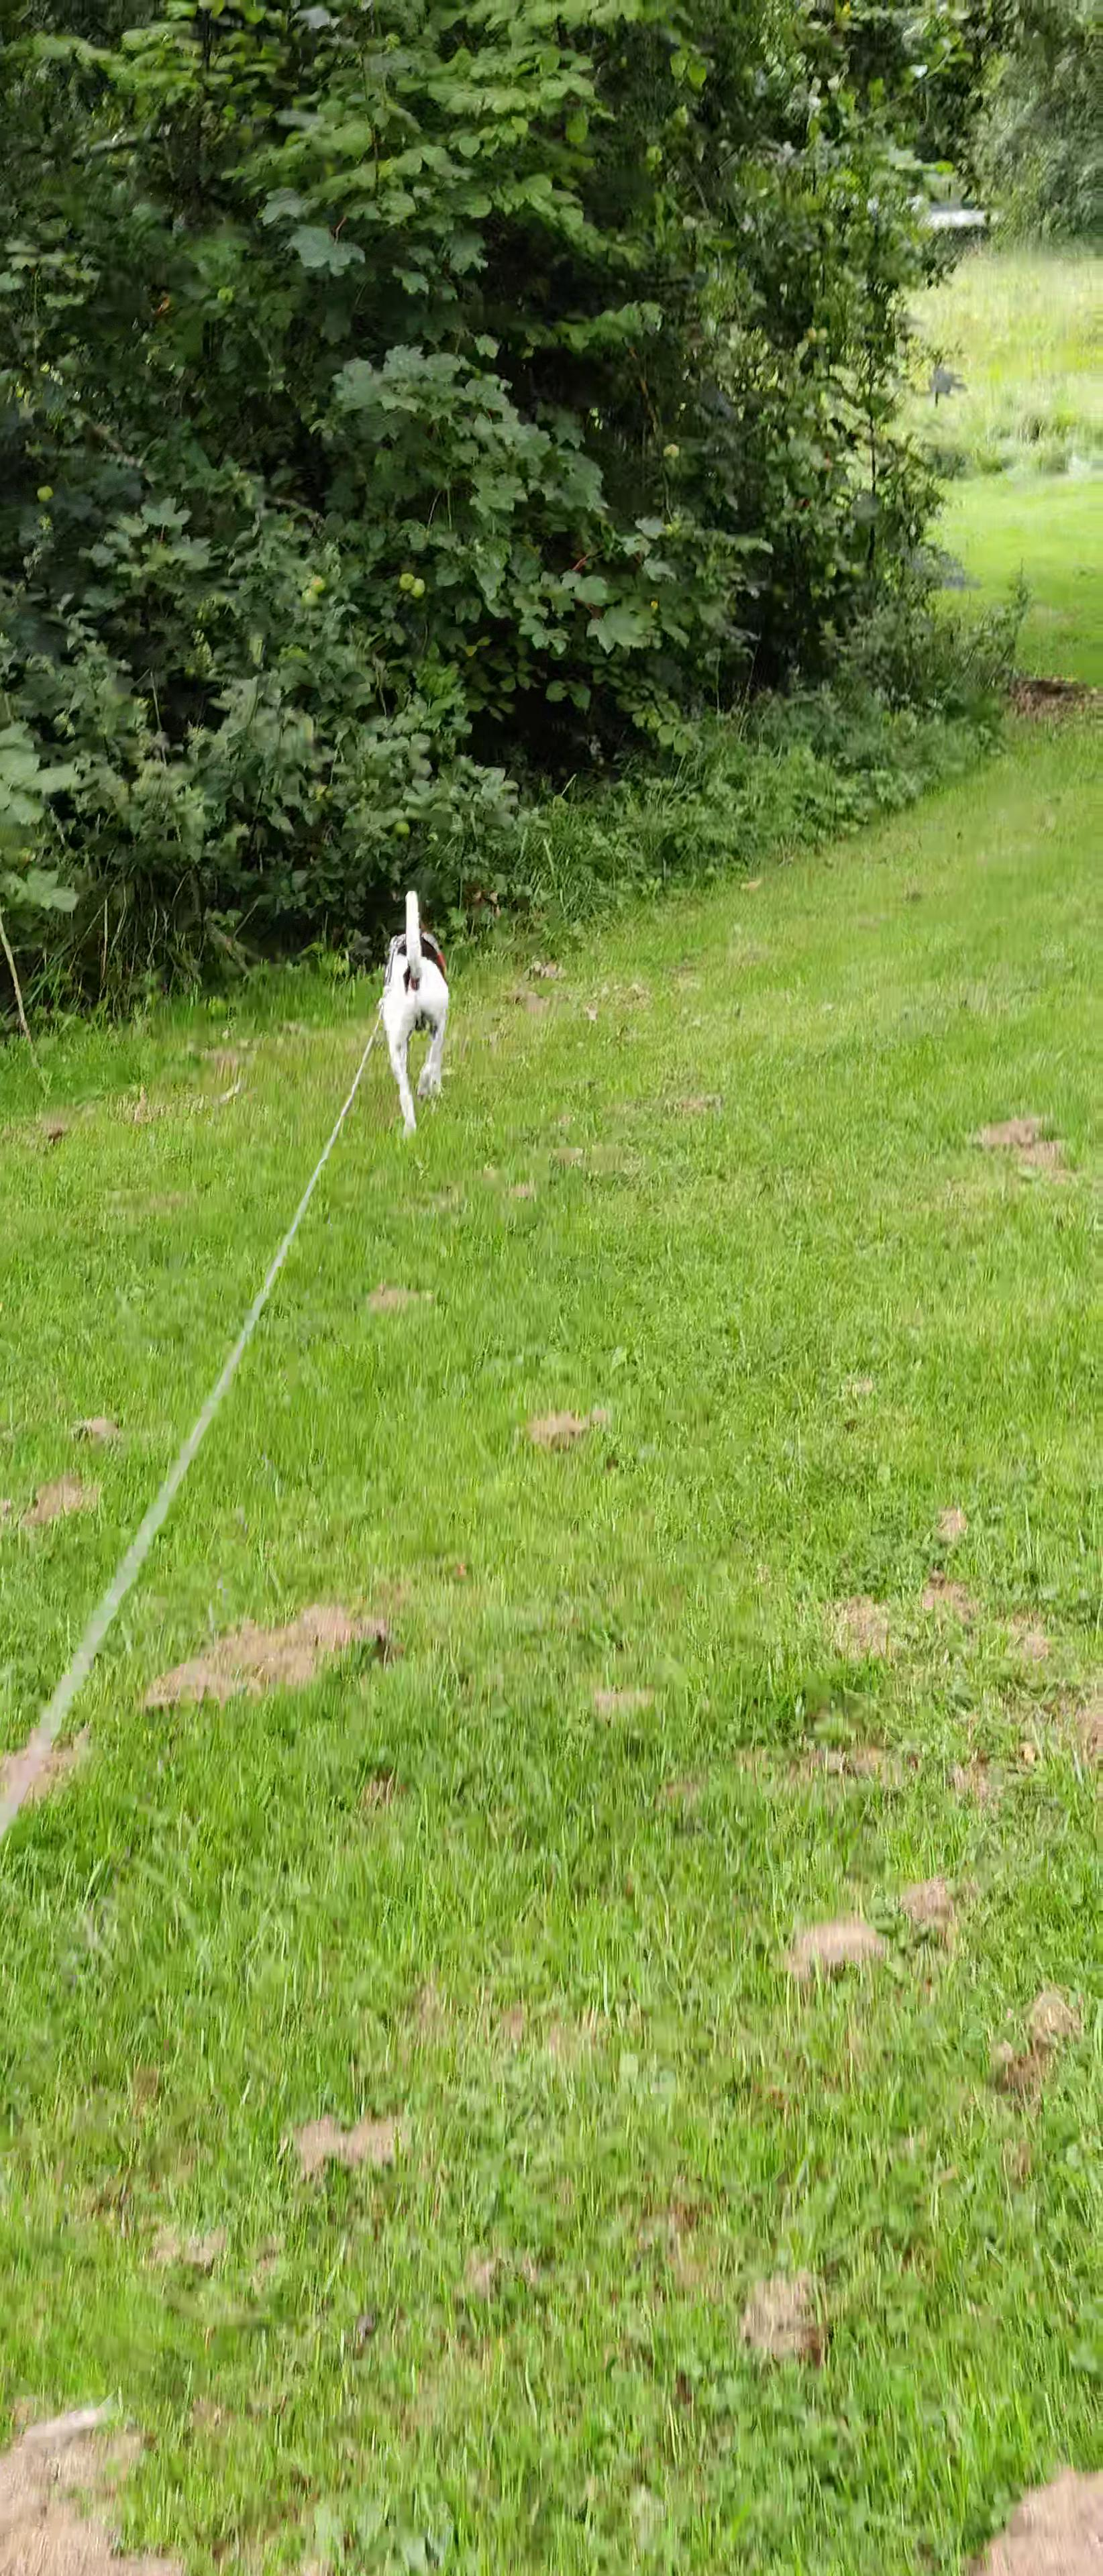Dog: (375, 881, 459, 1145)
